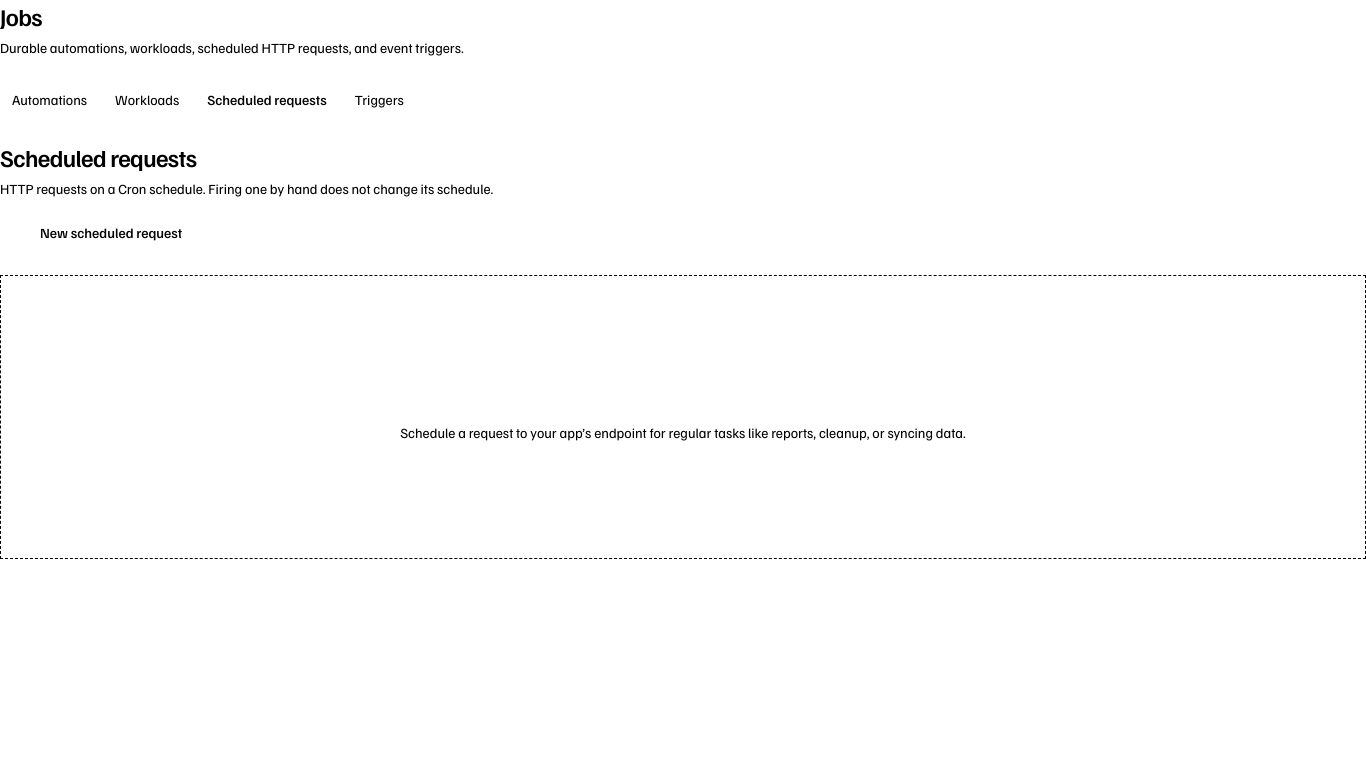
Scenario: Jobs hub › does not mistake an pending app lookup for an empty app list
What coordinates should you click on to do the following:
click the button "New scheduled request"
I would click on:
 (99, 233)
Its box is [0,215,198,251].
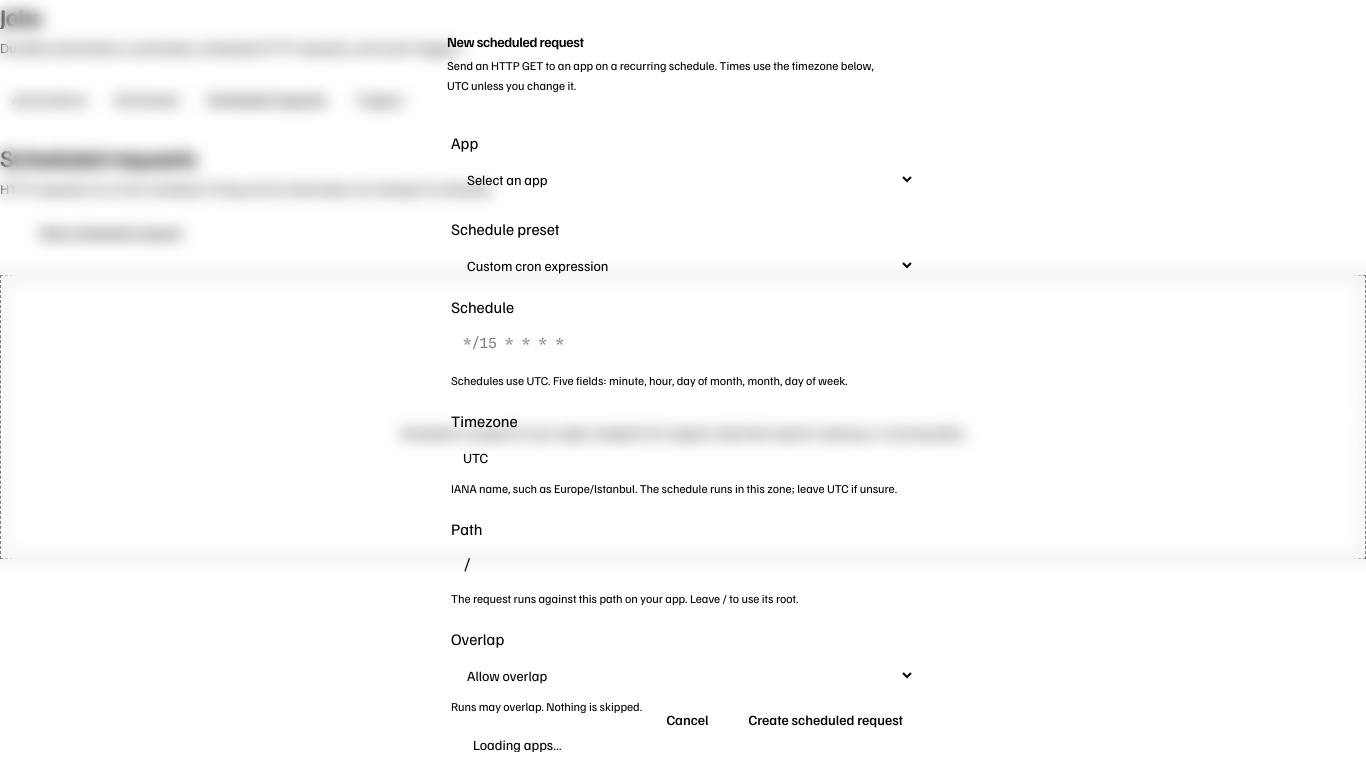
Check: the text "Loading apps…" is shown, box [473,736,562,752]
Check: the button "Create scheduled request" is disabled, box [732,702,919,738]
